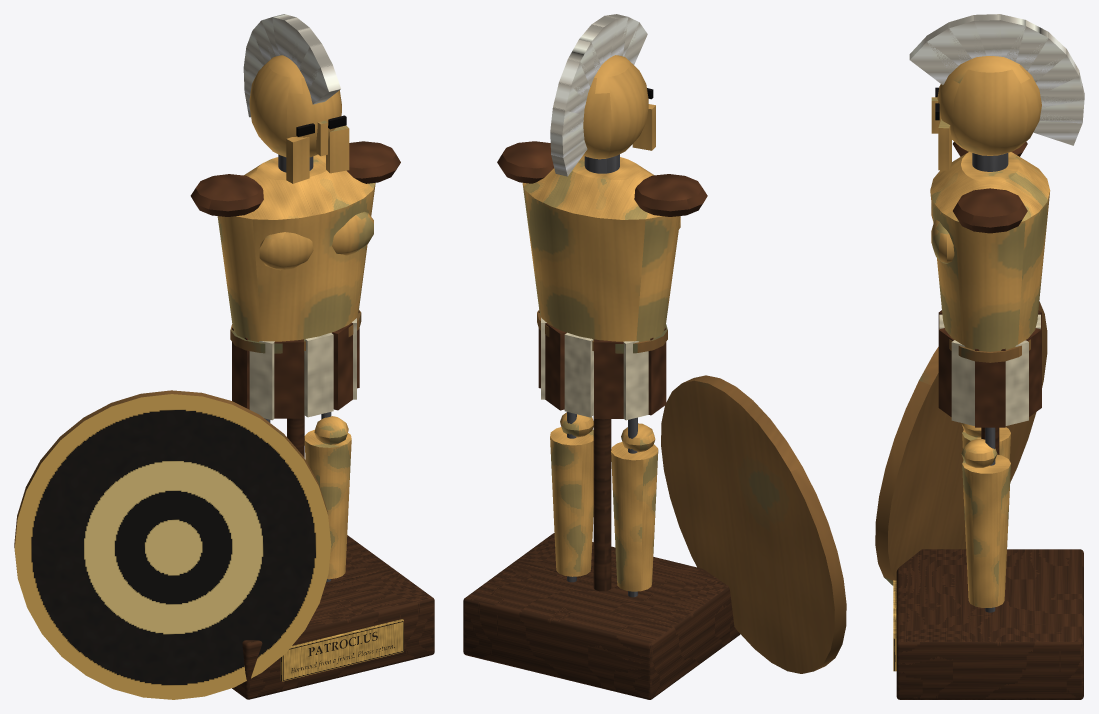
Rendered from armour_patroclus.gltf.
3 views of the same model, side by side, from view 1: azimuth 30°, elevation 25°; view 2: azimuth 150°, elevation 25°; view 3: azimuth 270°, elevation 25° (orthographic). The views are drawn at different scales.
Parts seen in each view (by area): view 1: ArmourPatroclus; view 2: ArmourPatroclus; view 3: ArmourPatroclus.
Boxes of the visible parts, left/top/right/bottom form: ArmourPatroclus: left=14, top=14, right=434, bottom=699; ArmourPatroclus: left=463, top=14, right=846, bottom=699; ArmourPatroclus: left=875, top=14, right=1084, bottom=699.
Bounding box in the file's own units: 1.19 × 1.95 × 0.5811.
Materials: 3 (3 with a texture image).
